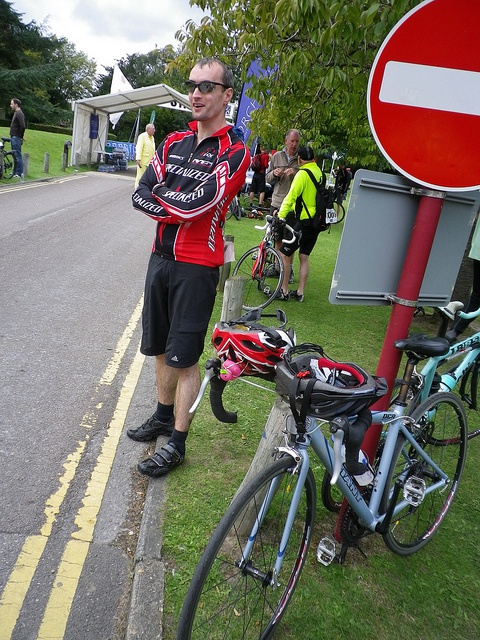non-vehicle: (170, 335, 467, 633), (422, 297, 480, 440), (234, 214, 299, 311), (0, 137, 17, 178), (328, 187, 344, 224), (225, 194, 241, 221)
